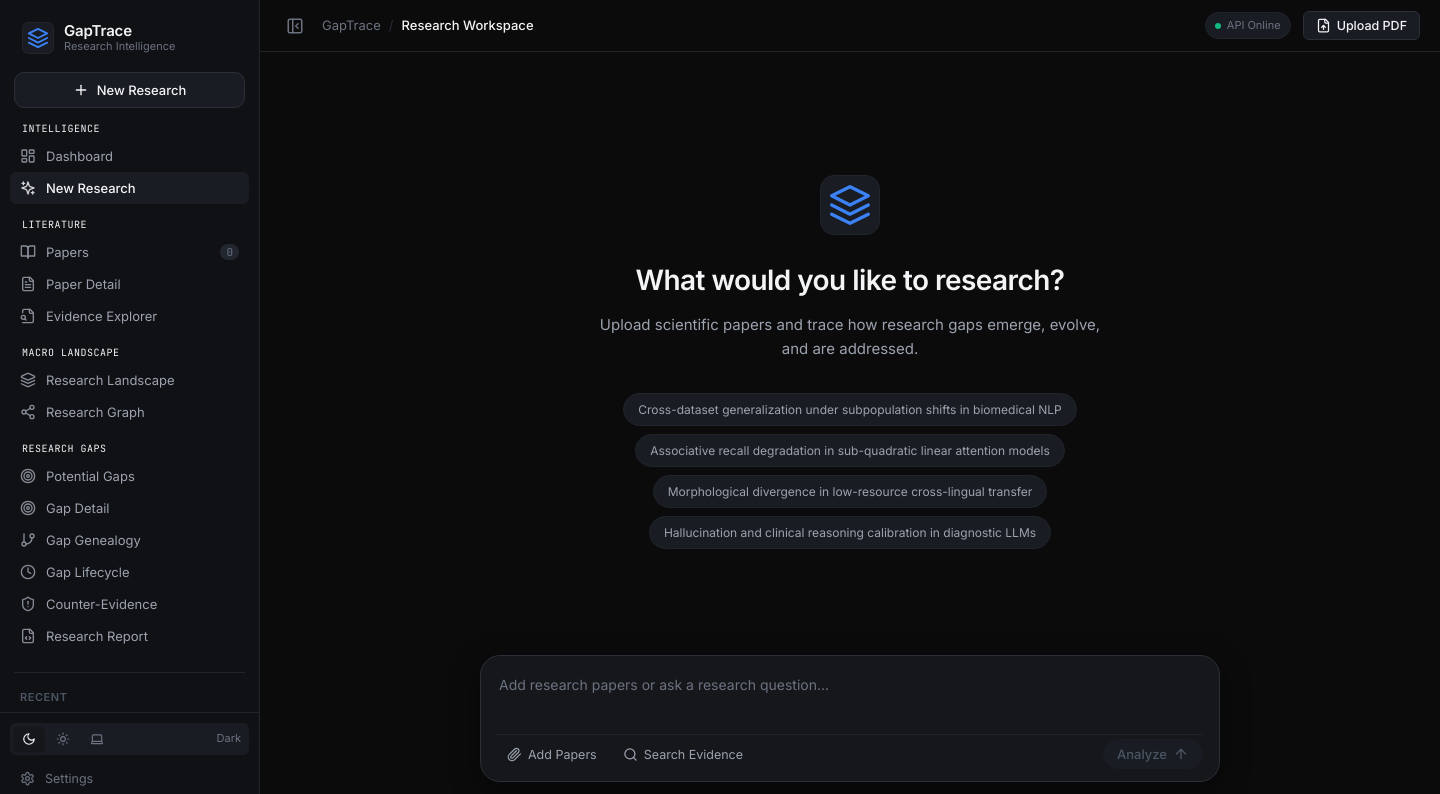
Test: GapTrace: Lead Research-AI Interface › renders research starters and allows initiating a research session
Expected: the text "Cross-dataset generalization" is shown, [638, 402, 1062, 416]
What coordinates should you click on to do the following:
click the button "Cross-dataset generalization"
I would click on:
 (850, 409)
Its box is [623, 392, 1077, 426].
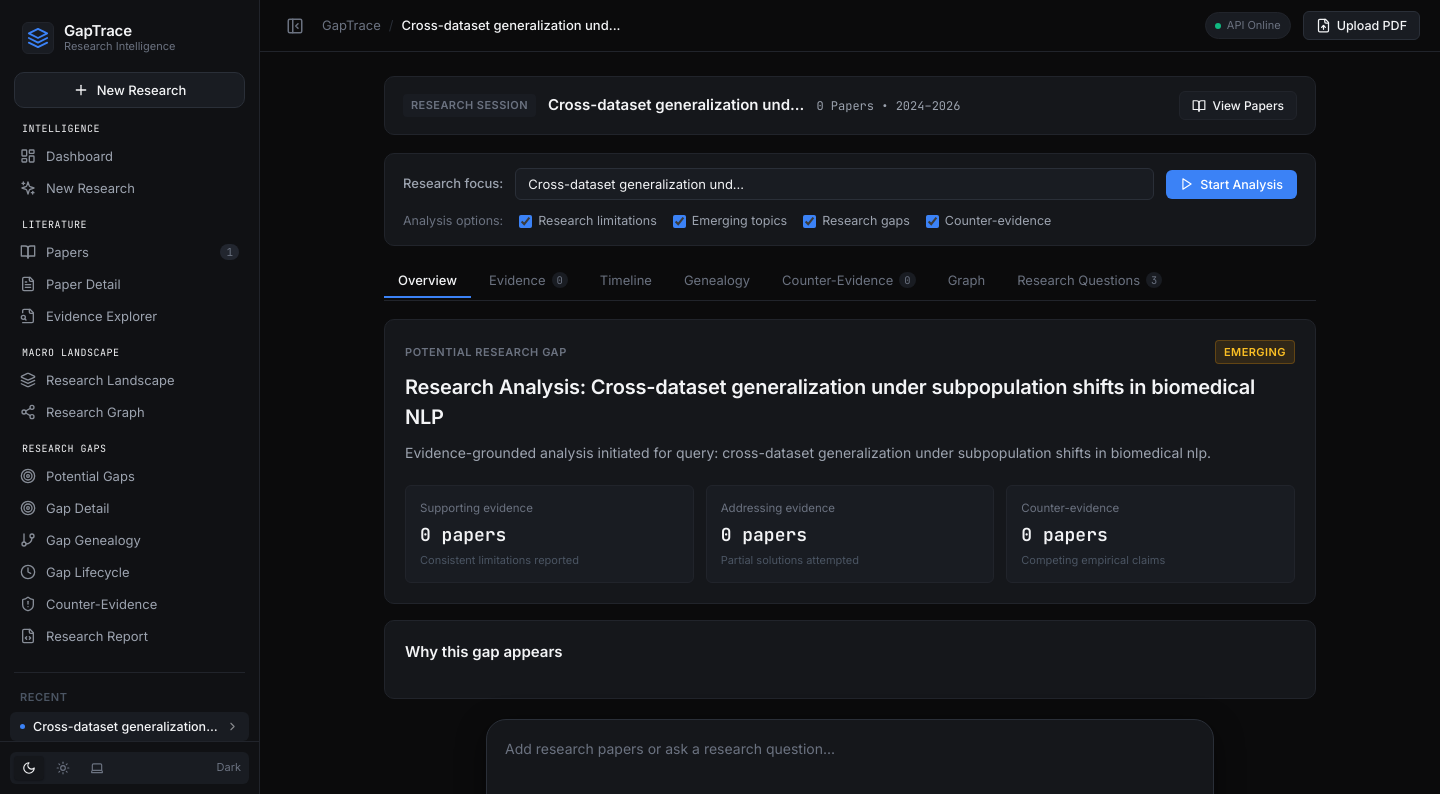
Expected: the text "Research Session" is shown, [403, 94, 536, 117]
Expected: the text "Supporting evidence" is shown, [420, 501, 533, 515]
Expected: the text "Addressing evidence" is shown, [721, 501, 835, 515]
